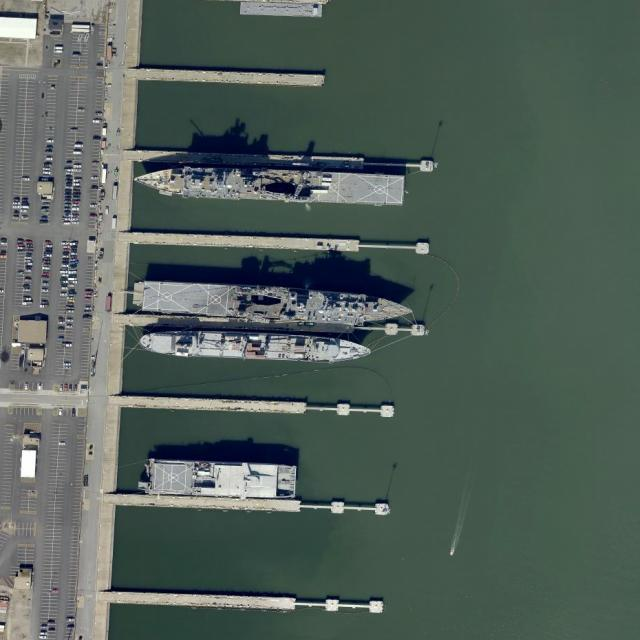Auxiliary Ships: (140, 458, 297, 499)
Cargo: (138, 326, 372, 366)
Dock: (126, 312, 425, 338), (127, 230, 429, 253), (118, 491, 387, 515), (133, 152, 434, 173), (105, 590, 382, 612), (121, 395, 394, 416), (140, 67, 324, 86)
Landing: (132, 277, 413, 328), (132, 162, 406, 208)
